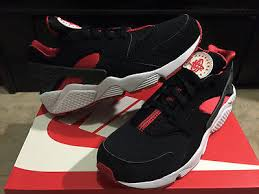Air Huarache Bred: (93, 39, 245, 191), (26, 8, 204, 117)
